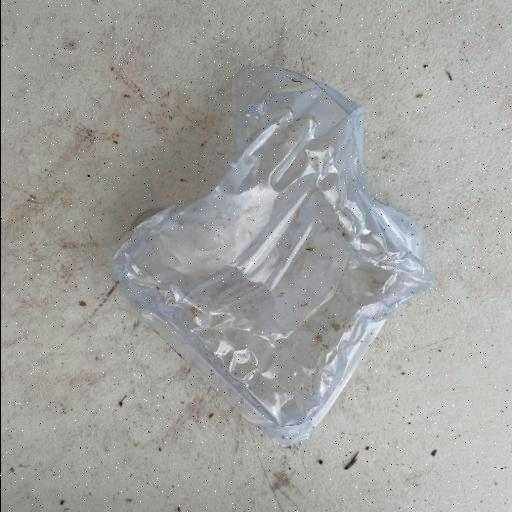Plastic: (110, 62, 434, 448)
